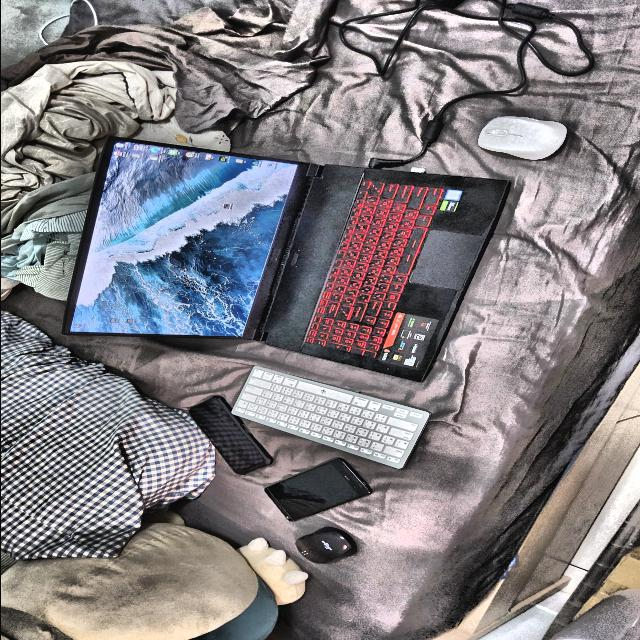laptop: (62, 137, 509, 381)
